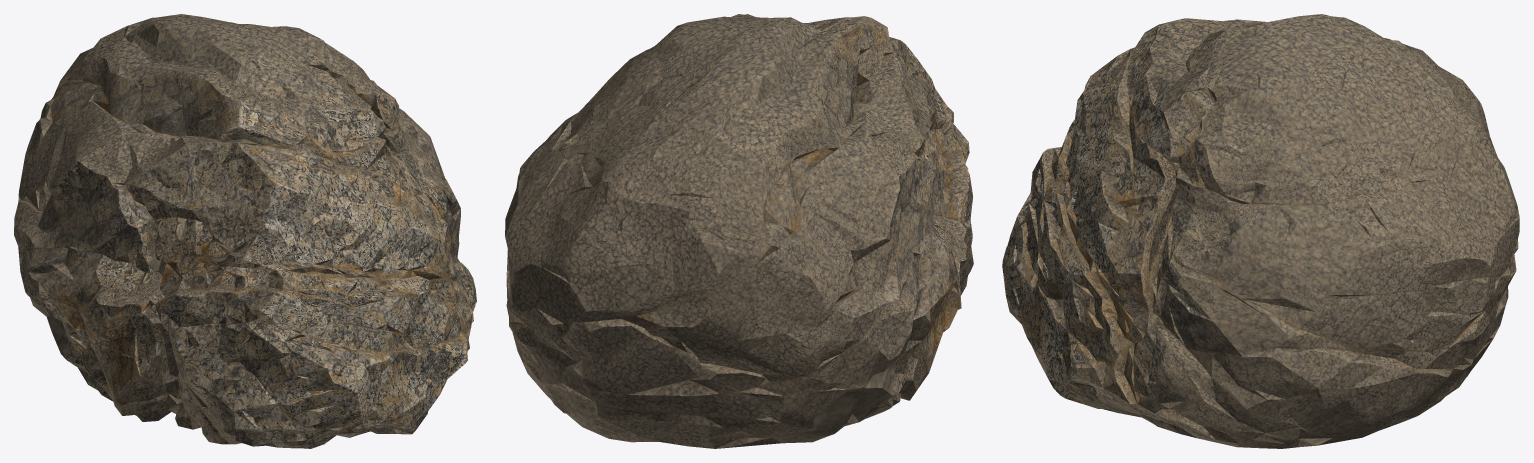
Rendered from boulder.glb.
3 views of the same model, side by side, from view 1: azimuth 30°, elevation 25°; view 2: azimuth 150°, elevation 25°; view 3: azimuth 270°, elevation 25° (orthographic). The views are drawn at different scales.
Visible parts, largest first — view 1: output_unwrapped; view 2: output_unwrapped; view 3: output_unwrapped.
Boxes of the visible parts, <box> form: output_unwrapped: <box>14,14,476,448</box>; output_unwrapped: <box>505,14,973,448</box>; output_unwrapped: <box>1002,14,1519,448</box>.
Bounding box in the file's own units: 2.69 × 2.2 × 3.09.
1 material, 1 textured.
